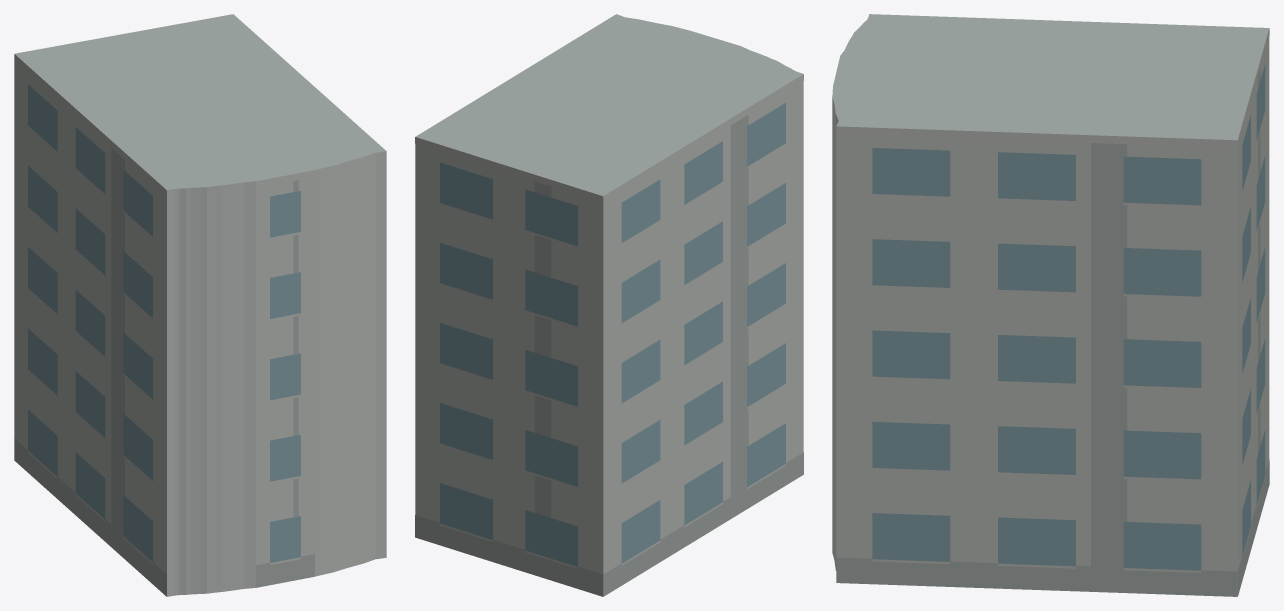
Rendered from survey-upis-32822242.glb.
3 views of the same model, side by side, from view 1: azimuth 30°, elevation 25°; view 2: azimuth 150°, elevation 25°; view 3: azimuth 270°, elevation 25° (orthographic). The views are drawn at different scales.
Parts seen in each view (by area): view 1: survey-upis-32822242.tmp; view 2: survey-upis-32822242.tmp; view 3: survey-upis-32822242.tmp.
Part boxes in pixels (x1,y1,x2,y2): survey-upis-32822242.tmp: [14, 14, 386, 596]; survey-upis-32822242.tmp: [415, 14, 803, 596]; survey-upis-32822242.tmp: [832, 14, 1269, 596].
Bounding box in the file's own units: 8.43 × 14.2 × 12.32.
